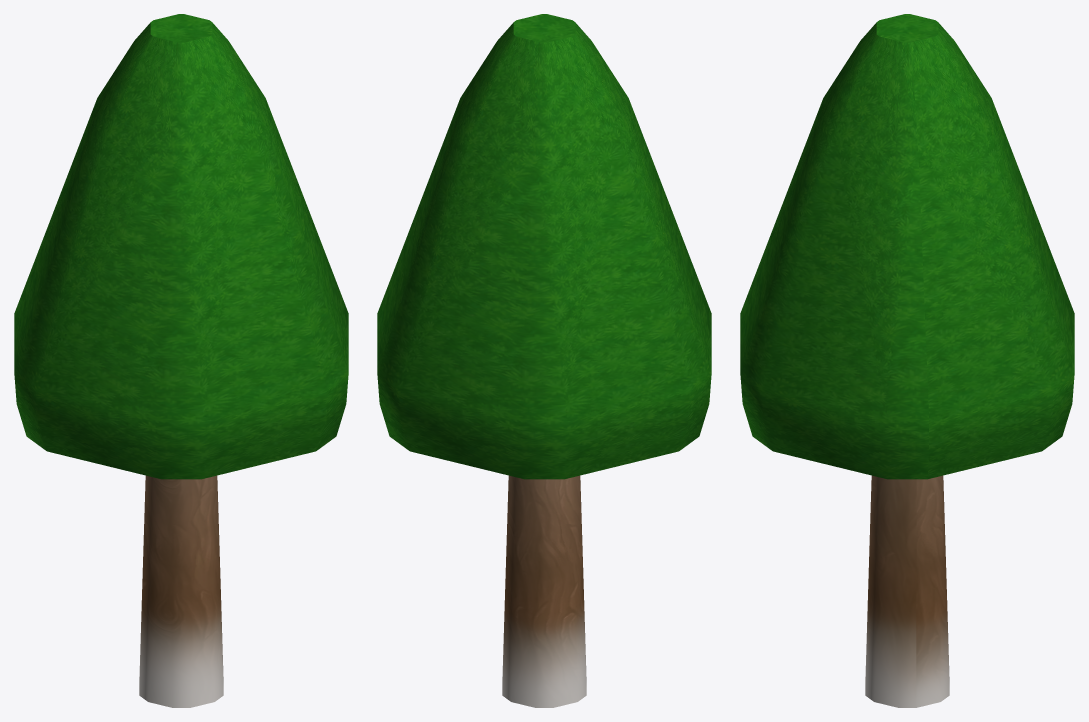
File: Tree01_S.FBX
The picture shows the model from 3 angles, left to right: view 1: azimuth 30°, elevation 25°; view 2: azimuth 150°, elevation 25°; view 3: azimuth 270°, elevation 25°; orthographic projection.
Parts seen in each view (by area): view 1: Cylinder006; view 2: Cylinder006; view 3: Cylinder006.
Part boxes in pixels (left/top/right/bottom): Cylinder006: left=14, top=14, right=348, bottom=707; Cylinder006: left=377, top=14, right=711, bottom=707; Cylinder006: left=740, top=14, right=1074, bottom=707.
Bounding box in the file's own units: 84.67 × 171 × 78.4.
